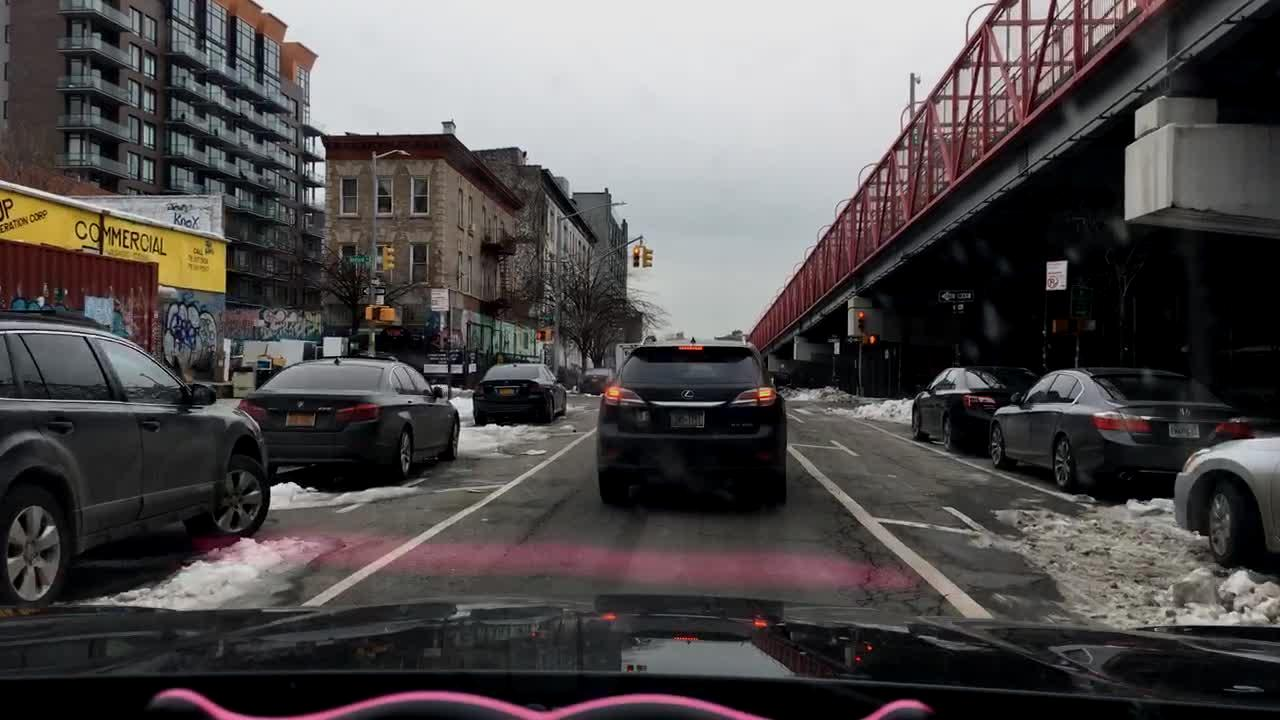Honda: (1176, 404, 1194, 420)
bmw: (292, 397, 308, 411)
lexus: (676, 384, 699, 404)
